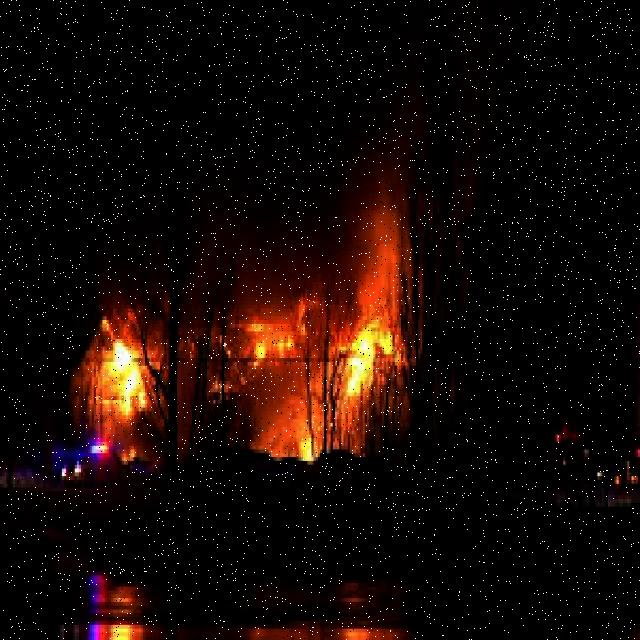fire: (98, 317, 188, 446), (325, 302, 406, 411)
